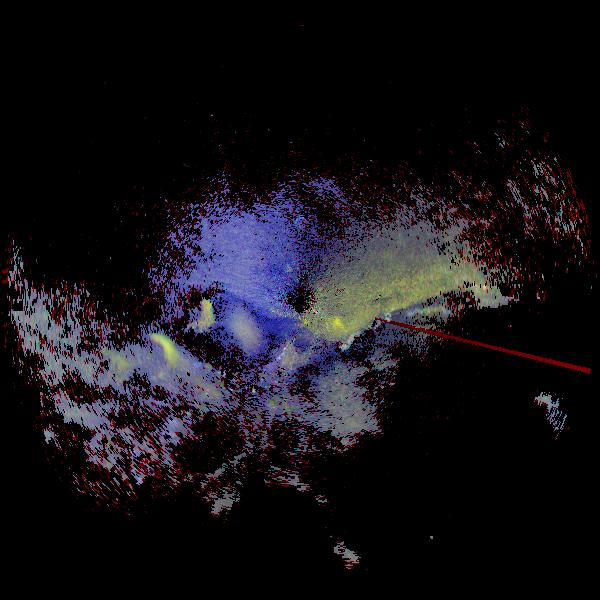roost: (126, 325, 192, 391), (179, 295, 221, 337)
